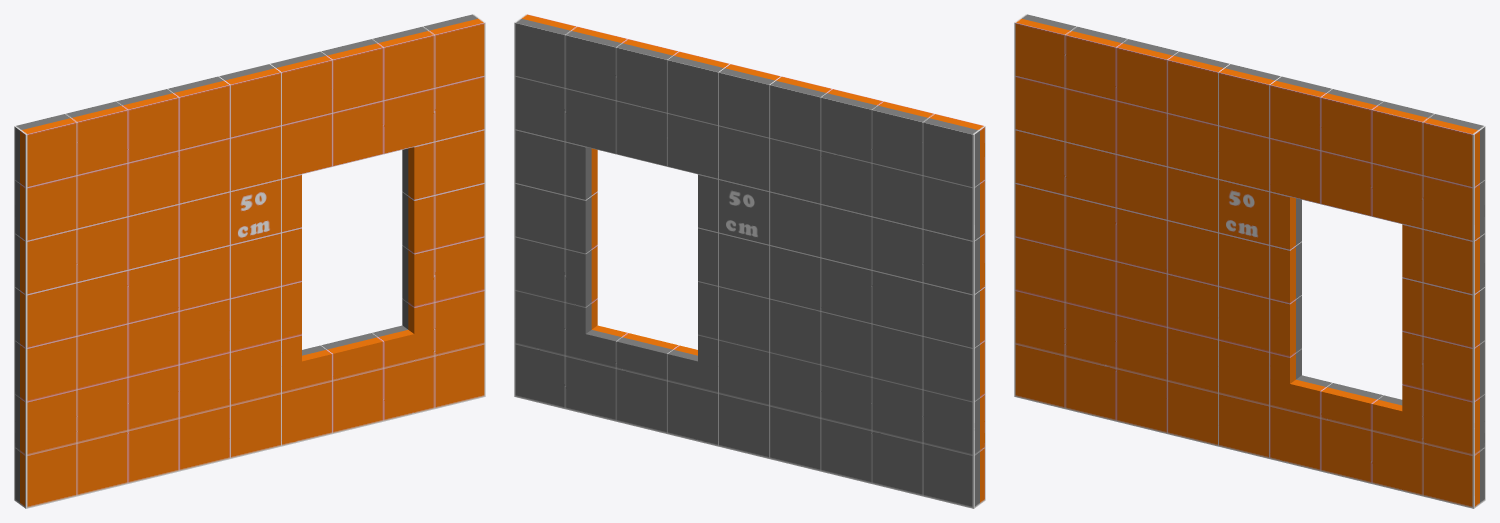
Rendered from M01WallWindowTypeA_3.FBX.
The picture shows the model from 3 angles, left to right: view 1: azimuth 30°, elevation 25°; view 2: azimuth 150°, elevation 25°; view 3: azimuth 330°, elevation 25°; orthographic projection.
Parts seen in each view (by area): view 1: M01WallWindowTypeA_3; view 2: M01WallWindowTypeA_3; view 3: M01WallWindowTypeA_3.
Boxes of the visible parts, x1,y1,x2,y2 form: M01WallWindowTypeA_3: (14, 14, 485, 508); M01WallWindowTypeA_3: (514, 14, 985, 508); M01WallWindowTypeA_3: (1014, 14, 1485, 508).
Size of what is drawn, in the model's own units: 4.5 by 3.5 by 0.2.
